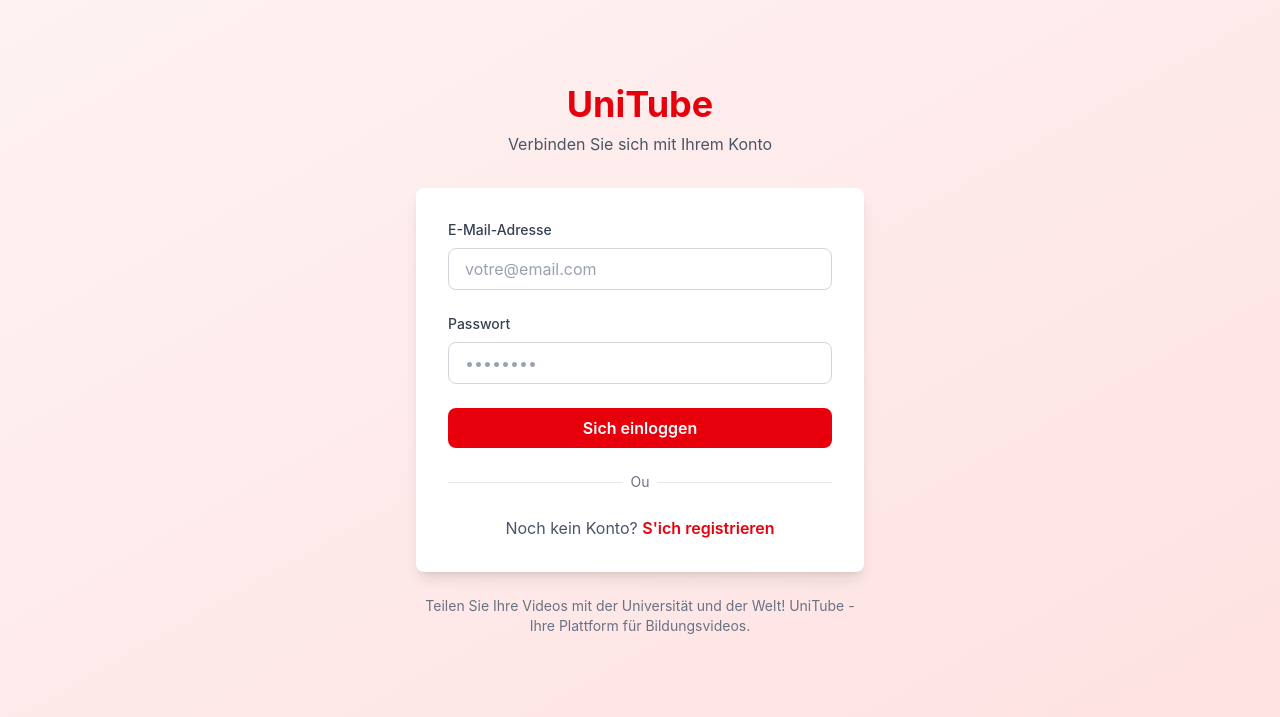
Test: Oeffentliche Navigation (nicht authentifiziert) › wechselt von Login zur Registrierungsseite
Click the link "S'ich registrieren".
click(708, 528)  # box [642,518,774,538]
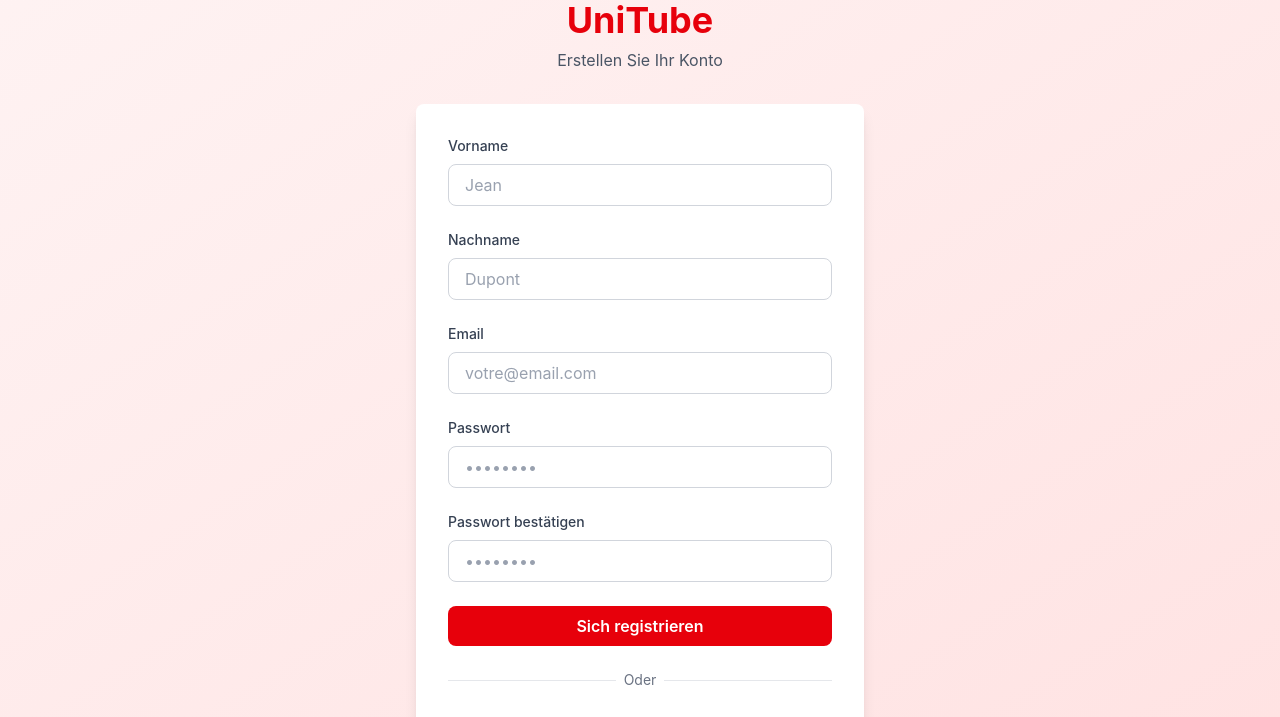
expect the field with id "email" is shown: met, box [448,352,832,394]
expect the field with id "name" is shown: met, box [448,164,832,206]
expect the button "Sich registrieren" is shown: met, box [448,606,832,646]
